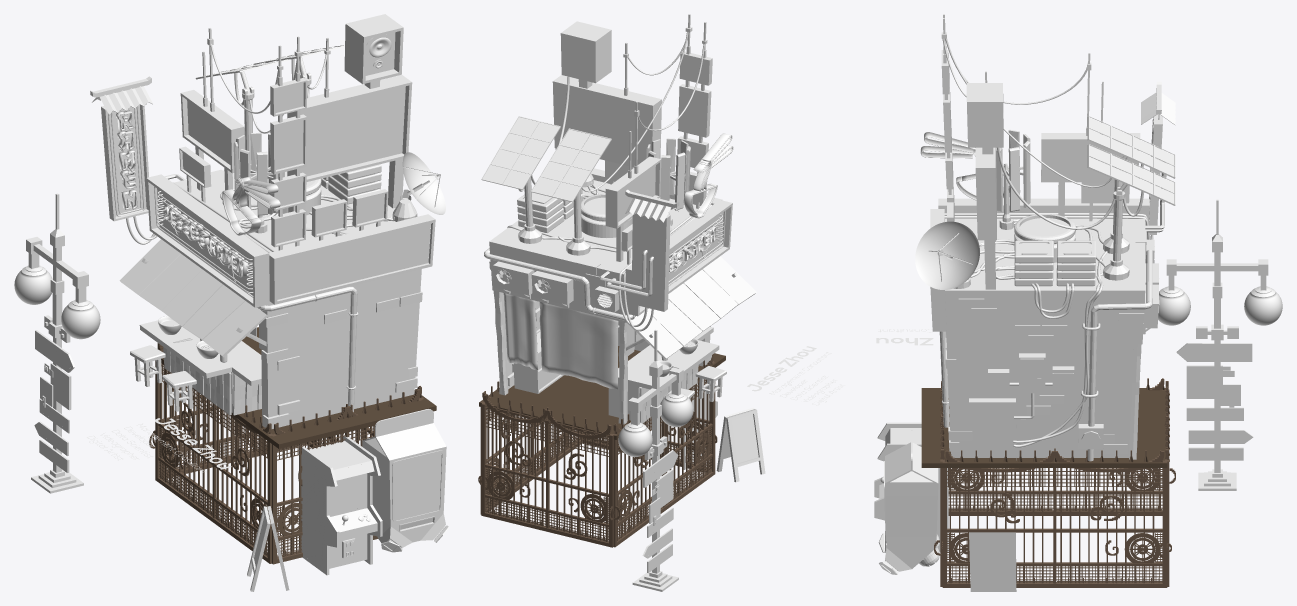
File: ramenShop-combined.glb
3 views of the same model, side by side, from view 1: azimuth 30°, elevation 25°; view 2: azimuth 150°, elevation 25°; view 3: azimuth 270°, elevation 25° (orthographic). The views are drawn at different scales.
Visible parts, largest first — view 1: ramenShopJoined, machinesJoined, miscJoined, gate_left, bigScreen, sideScreen, graphicsJoined, gate_front, roof, vendingMachineScreen, poleLight, gate_back (+13 smaller); view 2: ramenShopJoined, machinesJoined, gate_back, gate_left, miscJoined, roof, gate_right, poleLight, easelFrontGraphic, jesseZhouJoined, gate_front, tvScreen (+2 smaller); view 3: ramenShopJoined, machinesJoined, miscJoined, gate_right, gate_left, roof, dish, poleLight, graphicsJoined, gate_back, portalLight, gate_front.
Boxes of the visible parts, left/top/right/bottom form: ramenShopJoined: left=90, top=76, right=422, bottom=428; machinesJoined: left=179, top=14, right=435, bottom=304; miscJoined: left=21, top=193, right=449, bottom=591; gate_left: left=152, top=343, right=273, bottom=563; bigScreen: left=300, top=86, right=405, bottom=176; sideScreen: left=277, top=223, right=430, bottom=299; graphicsJoined: left=301, top=409, right=446, bottom=571; gate_front: left=269, top=389, right=422, bottom=564; roof: left=161, top=327, right=436, bottom=448; vendingMachineScreen: left=394, top=452, right=441, bottom=520; poleLight: left=14, top=270, right=100, bottom=339; gate_back: left=149, top=346, right=306, bottom=478; ramenShopJoined: left=484, top=133, right=756, bottom=424; machinesJoined: left=481, top=14, right=721, bottom=264; gate_back: left=478, top=394, right=620, bottom=547; gate_left: left=609, top=354, right=715, bottom=547; miscJoined: left=624, top=329, right=765, bottom=591; roof: left=479, top=346, right=725, bottom=439; gate_right: left=479, top=381, right=582, bottom=514; poleLight: left=618, top=397, right=693, bottom=456; easelFrontGraphic: left=731, top=414, right=758, bottom=463; jesseZhouJoined: left=747, top=346, right=844, bottom=405; gate_front: left=583, top=361, right=717, bottom=472; tvScreen: left=618, top=165, right=655, bottom=221; ramenShopJoined: left=920, top=81, right=1175, bottom=461; machinesJoined: left=930, top=14, right=1175, bottom=460; miscJoined: left=874, top=199, right=1275, bottom=591; gate_right: left=934, top=448, right=1171, bottom=587; gate_left: left=948, top=378, right=1175, bottom=515; roof: left=921, top=388, right=1167, bottom=467; dish: left=915, top=221, right=979, bottom=289; poleLight: left=1158, top=291, right=1282, bottom=325; graphicsJoined: left=885, top=430, right=910, bottom=482; gate_back: left=1164, top=381, right=1169, bottom=586; portalLight: left=1020, top=218, right=1069, bottom=244; gate_front: left=940, top=381, right=944, bottom=586.
Size of what is drawn, in the model's own units: 9.03 by 13.51 by 9.73.
